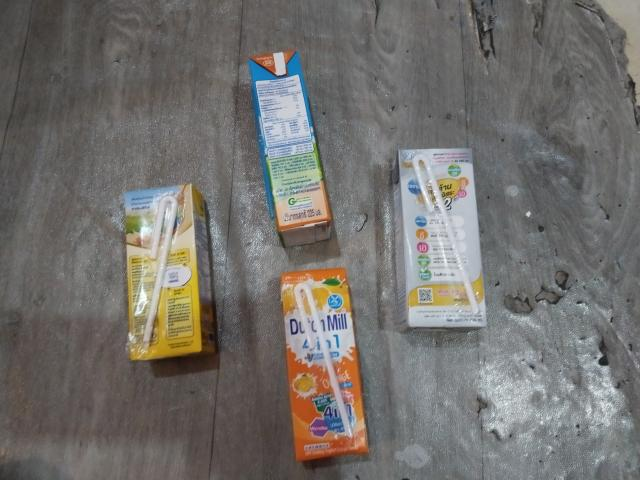drink_box: (241, 46, 345, 249), (388, 146, 489, 334), (118, 185, 221, 363), (279, 269, 372, 459)
